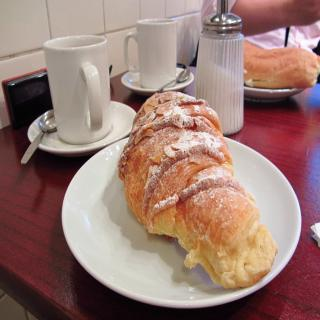Bread: (116, 84, 266, 274), (244, 42, 320, 88)
Croissant: (118, 94, 274, 282)
